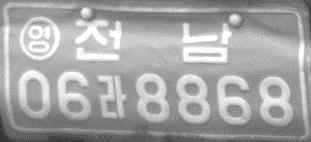0: (17, 70, 51, 121)
6: (55, 69, 92, 123), (216, 75, 252, 127)
8: (258, 75, 294, 129), (174, 74, 212, 125), (134, 72, 171, 124)
라: (95, 74, 129, 119)
영: (19, 16, 62, 61)
전남_D: (74, 18, 231, 64)
